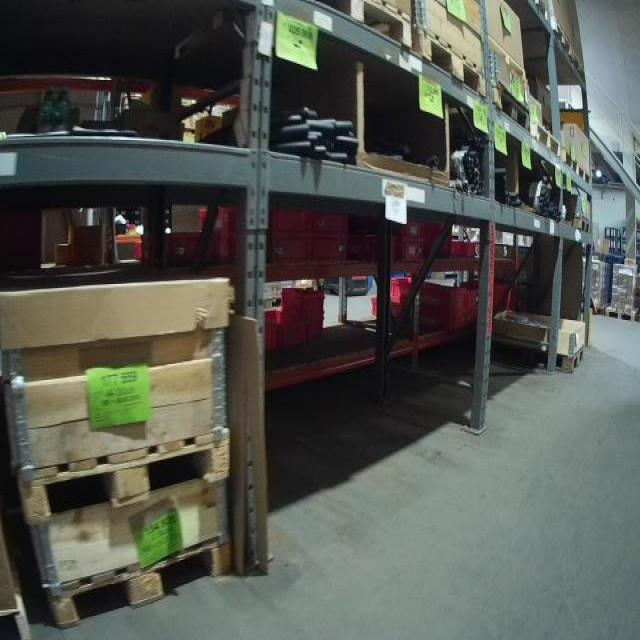pallet: (13, 429, 233, 528), (47, 531, 231, 630), (415, 24, 488, 104), (493, 343, 586, 373), (492, 83, 533, 143), (344, 21, 412, 52), (528, 117, 563, 161), (553, 19, 572, 58), (560, 145, 581, 177), (579, 164, 592, 190)
small_load_carrier: (219, 232, 309, 273), (242, 203, 310, 235), (302, 234, 350, 279), (144, 234, 208, 266), (263, 308, 305, 355), (357, 239, 429, 266), (413, 276, 468, 305), (280, 283, 328, 312), (410, 305, 468, 328), (364, 221, 427, 242), (424, 222, 453, 267), (194, 211, 242, 236), (303, 211, 350, 235), (373, 298, 410, 326), (382, 278, 419, 301), (304, 312, 328, 344), (451, 240, 482, 258)
